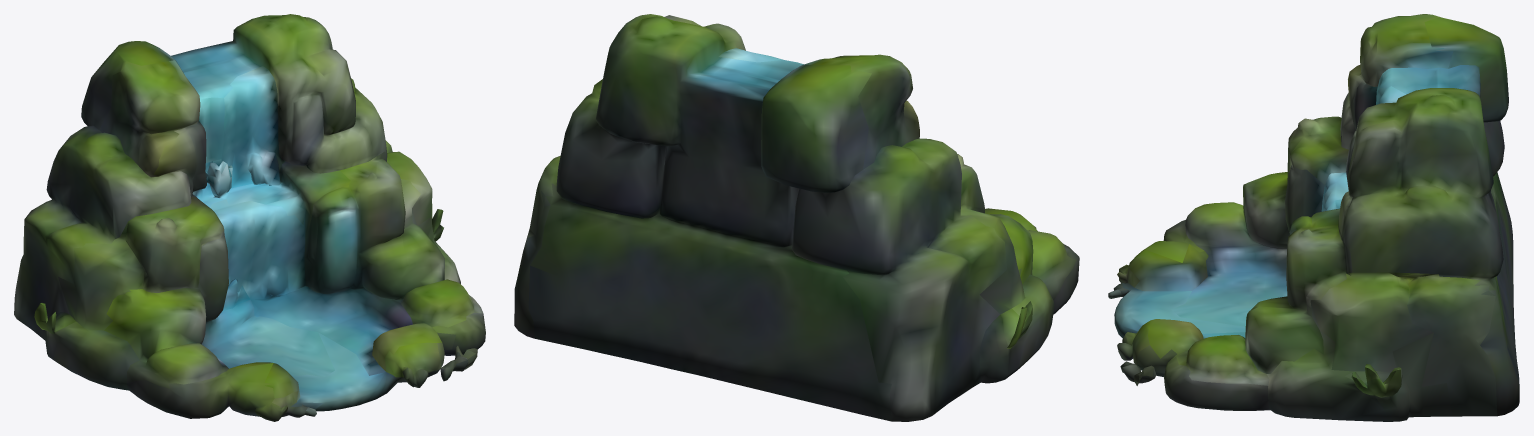
File: f13_cachoeira.glb
3 renders of one model, left to right at view 1: azimuth 30°, elevation 25°; view 2: azimuth 150°, elevation 25°; view 3: azimuth 270°, elevation 25°, orthographic. The views are drawn at different scales.
Visible parts, largest first — view 1: f13_cachoeira; view 2: f13_cachoeira; view 3: f13_cachoeira.
Boxes of the visible parts, left/top/right/bottom form: f13_cachoeira: left=14, top=14, right=485, bottom=421; f13_cachoeira: left=514, top=14, right=1079, bottom=421; f13_cachoeira: left=1108, top=14, right=1519, bottom=421.
Bounding box in the file's own units: 0.8027 × 0.4886 × 0.6689.
1 material, 1 textured.
